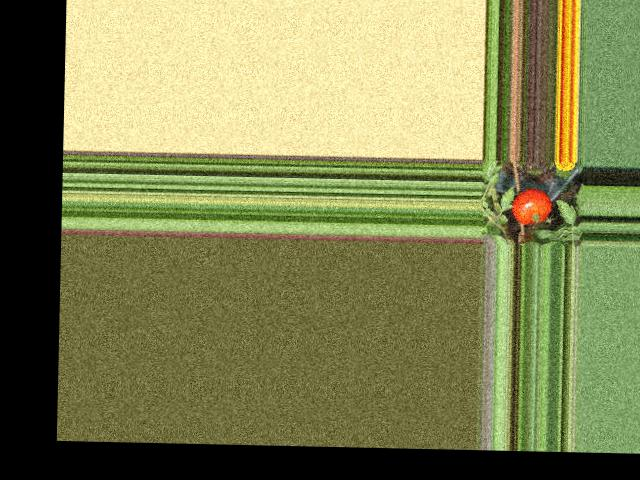tomato: (510, 188, 552, 225)
